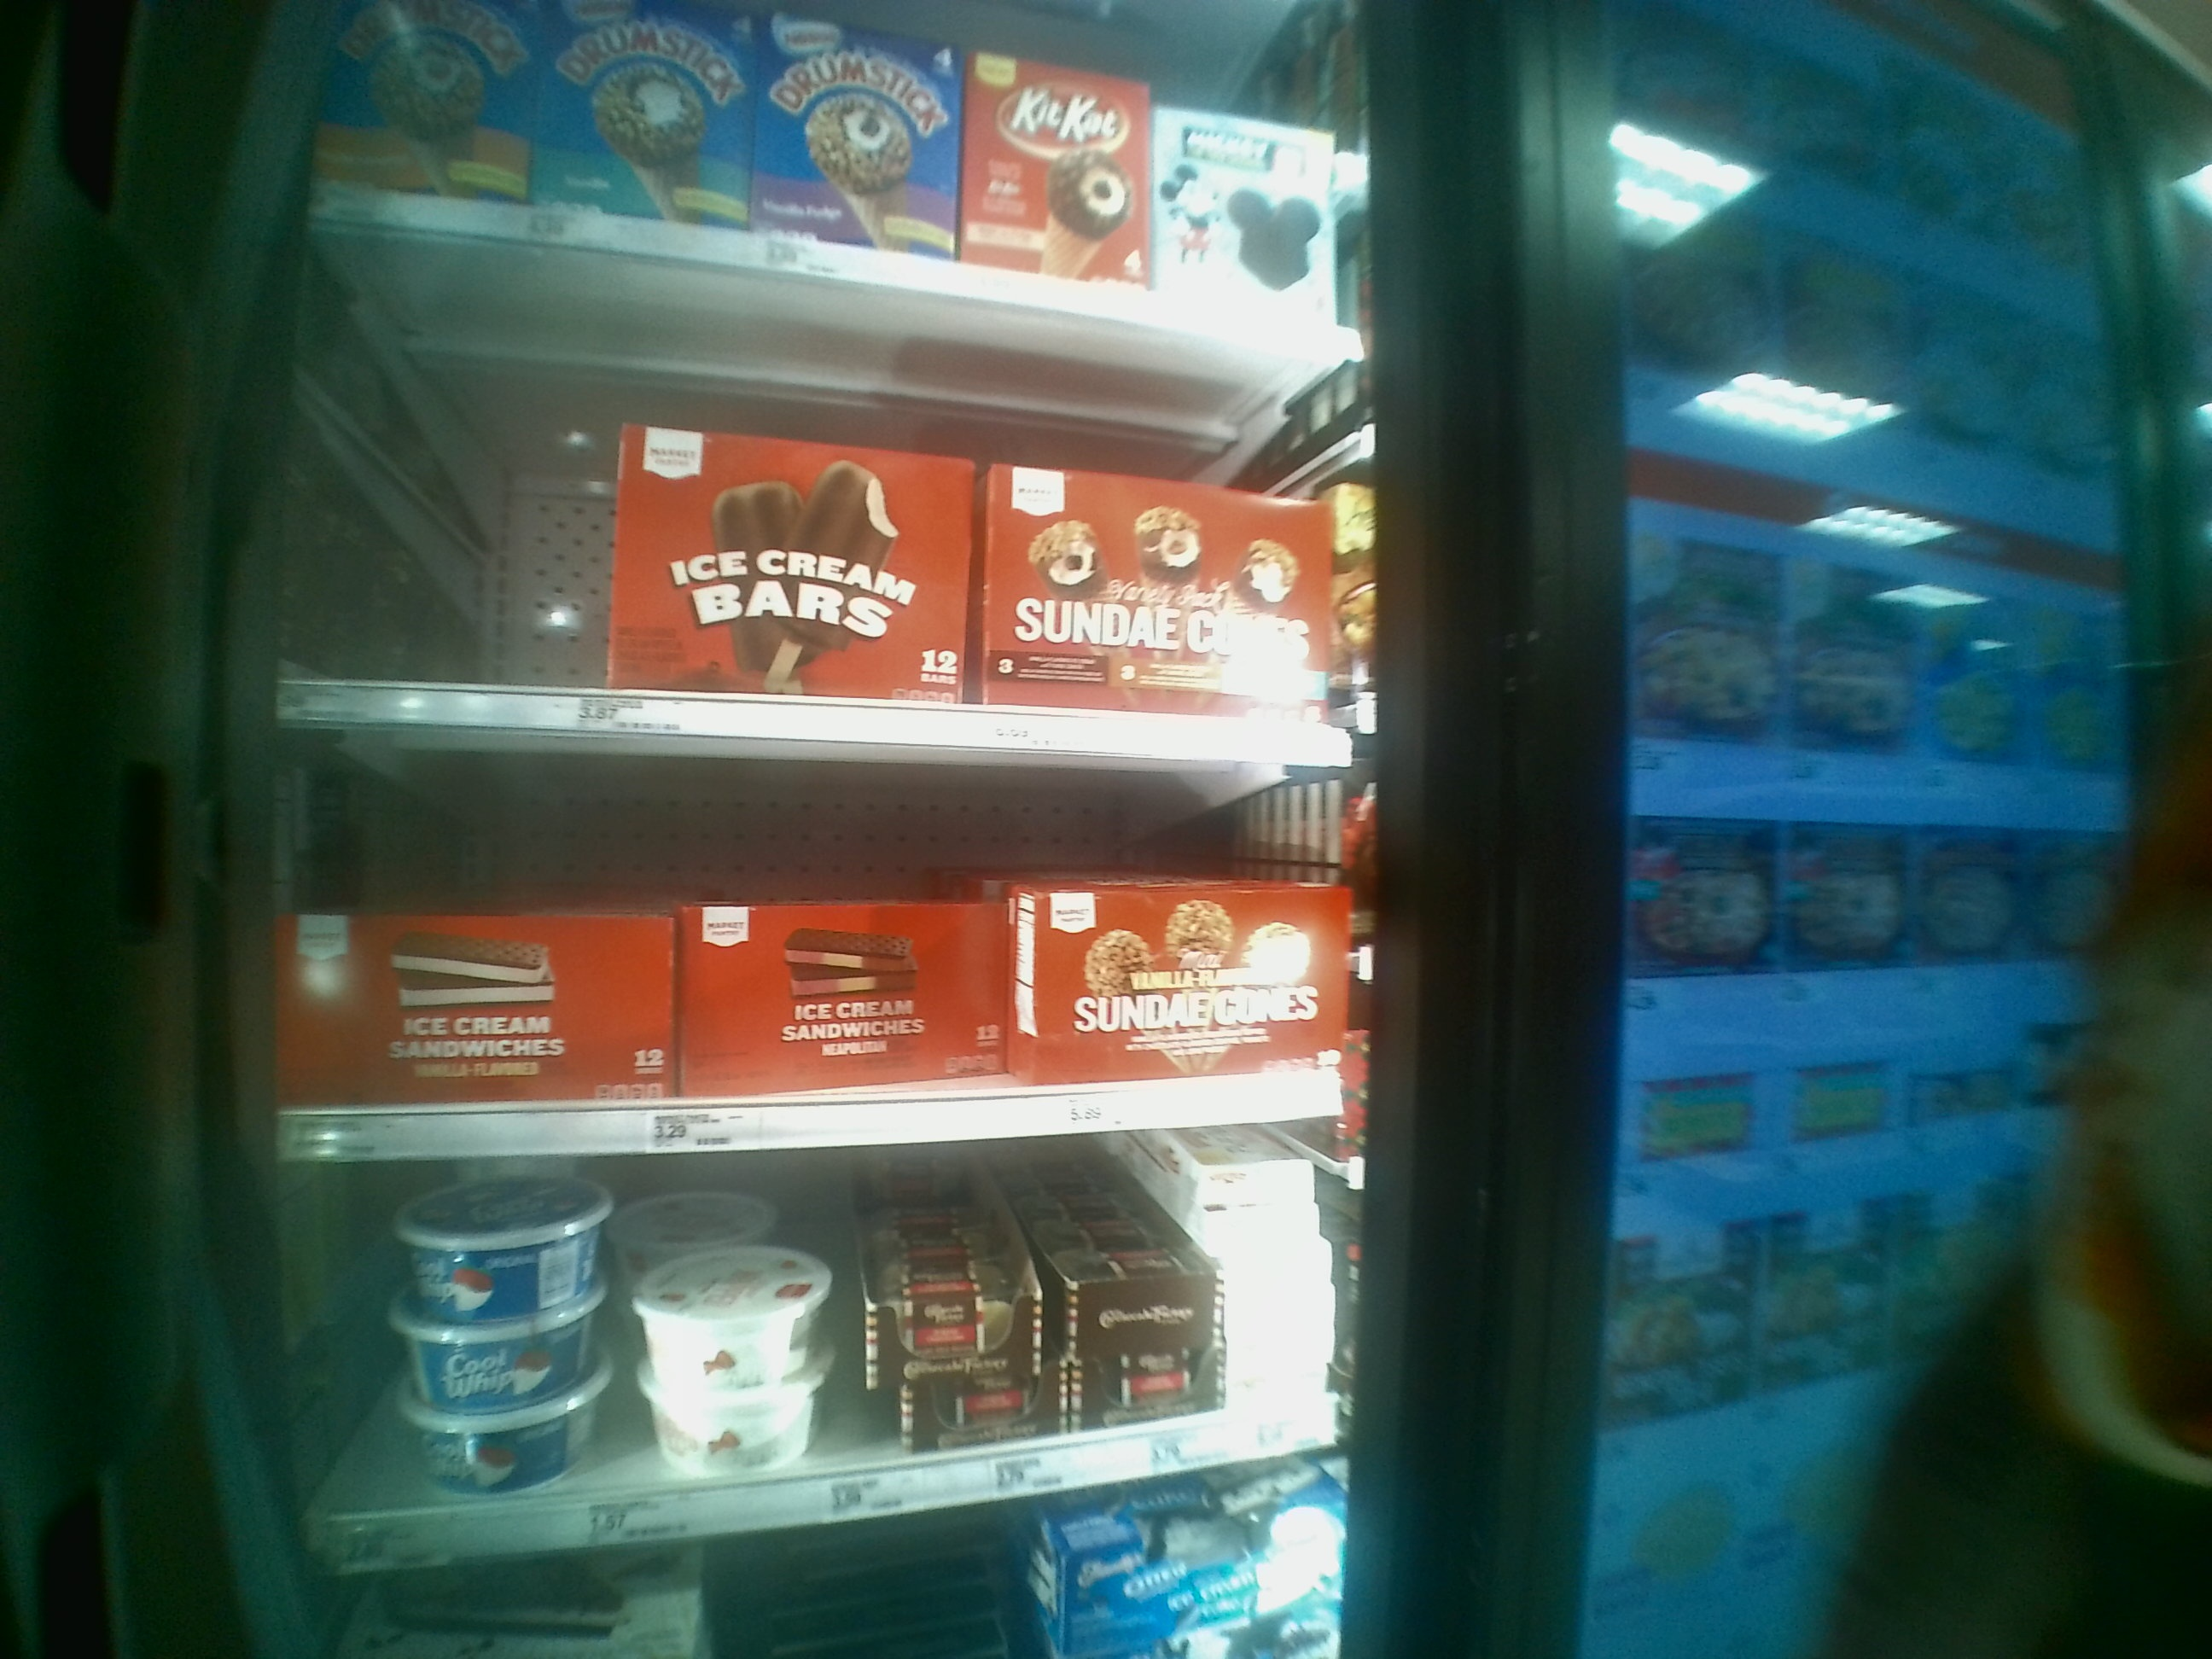frozen-food-shelf: (263, 1161, 1393, 1577), (258, 364, 1385, 769), (265, 762, 1388, 1162)
